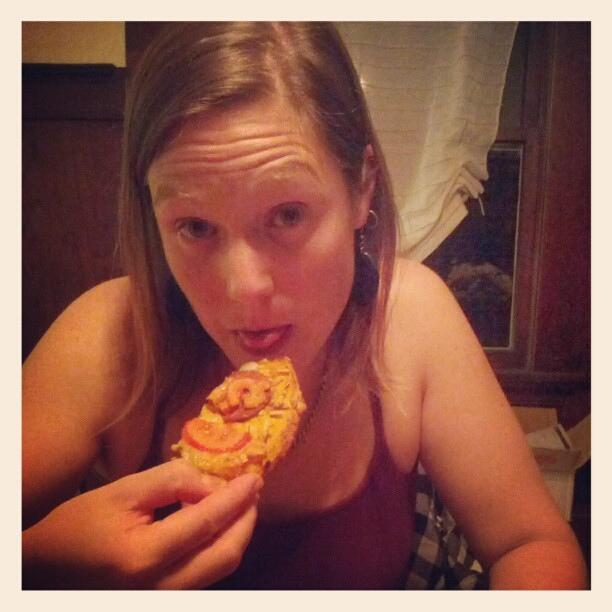tomato: (182, 418, 253, 454)
